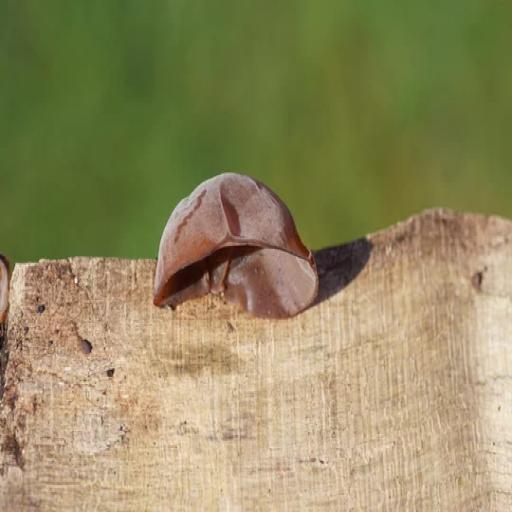Wood Ear Mushroom: (151, 172, 321, 326)
